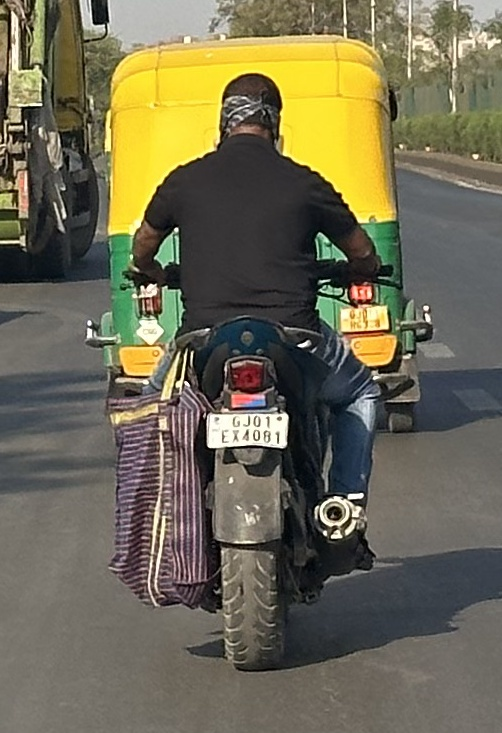BikeWithRider: (75, 63, 442, 679)
NoHelmet: (204, 64, 295, 160)
